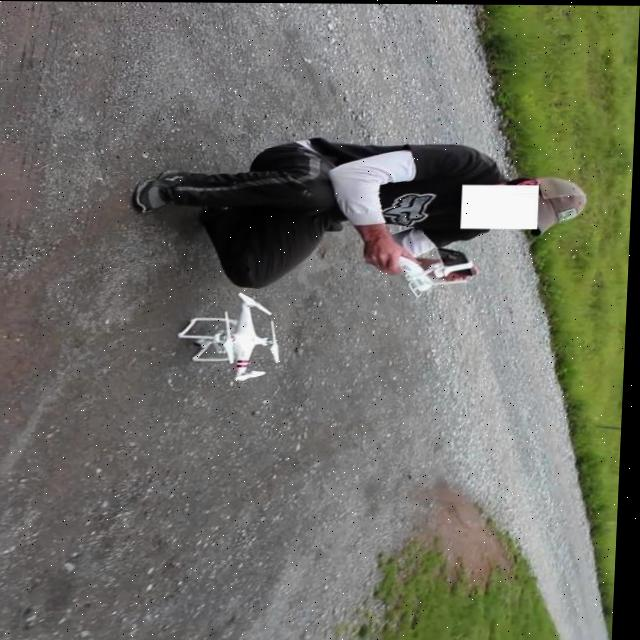drone: (181, 290, 293, 381)
